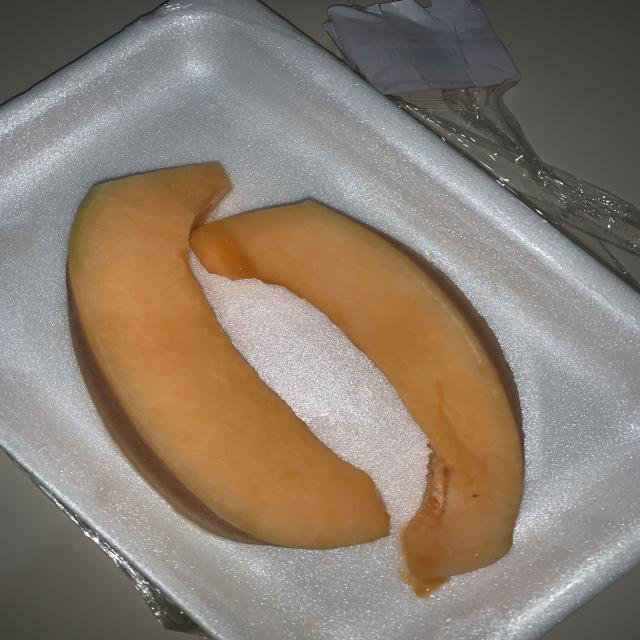melon: (239, 193, 555, 435), (59, 281, 285, 549)
